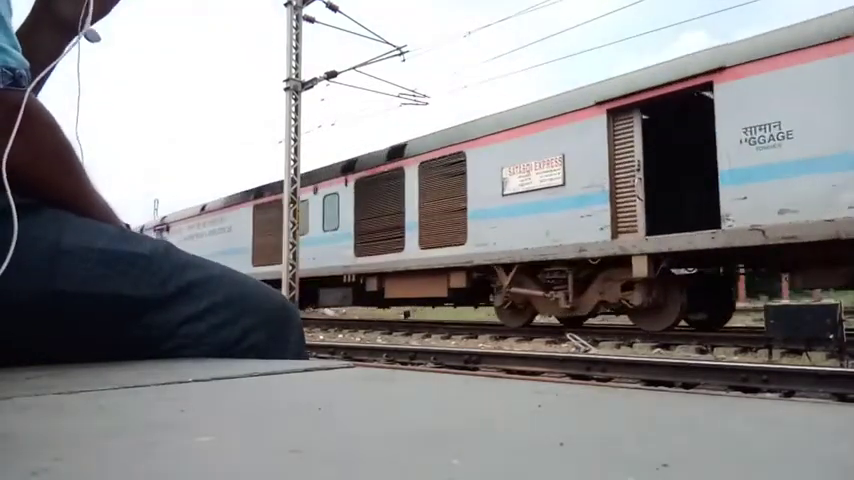Car Type: (724, 119, 818, 162)
